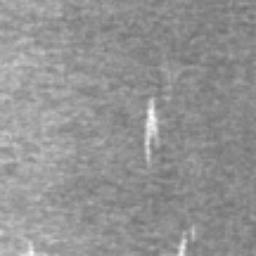White rust: (144, 96, 160, 169), (177, 230, 188, 256), (192, 223, 195, 243)
